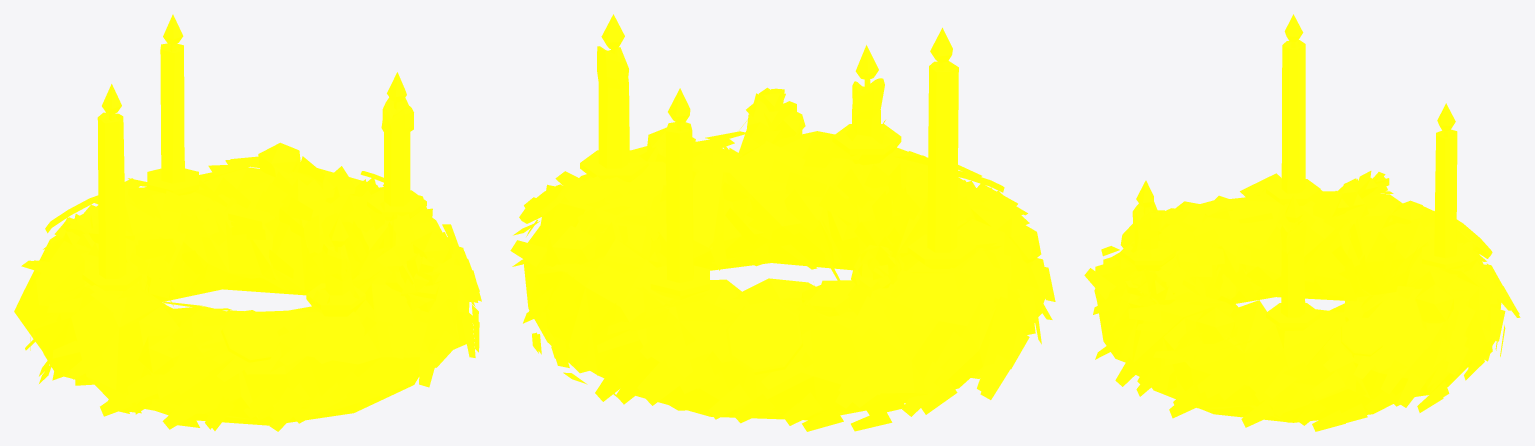
File: wreath-advent-b.glb
3 renders of one model, left to right at view 1: azimuth 30°, elevation 25°; view 2: azimuth 150°, elevation 25°; view 3: azimuth 270°, elevation 25°, orthographic. The views are drawn at different scales.
Visible parts, largest first — view 1: wreath_advent_b; view 2: wreath_advent_b; view 3: wreath_advent_b.
Part boxes in pixels (bbox=[...]): wreath_advent_b: bbox=[14, 14, 481, 431]; wreath_advent_b: bbox=[510, 14, 1055, 431]; wreath_advent_b: bbox=[1084, 14, 1520, 431].
Size of the model in its own units: 0.5754 by 0.3977 by 0.5667.
2 materials, 2 textured.
